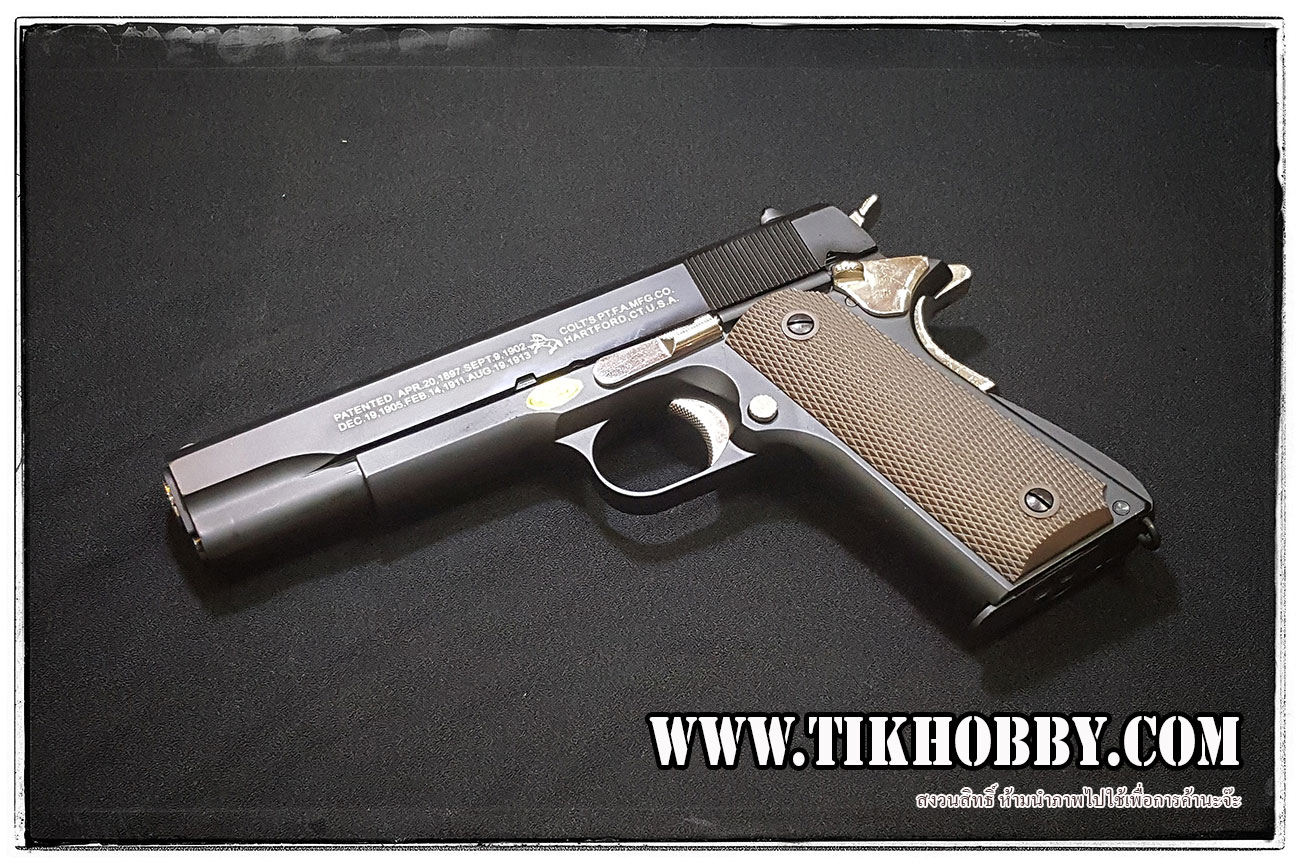gun: (132, 176, 1186, 678)
